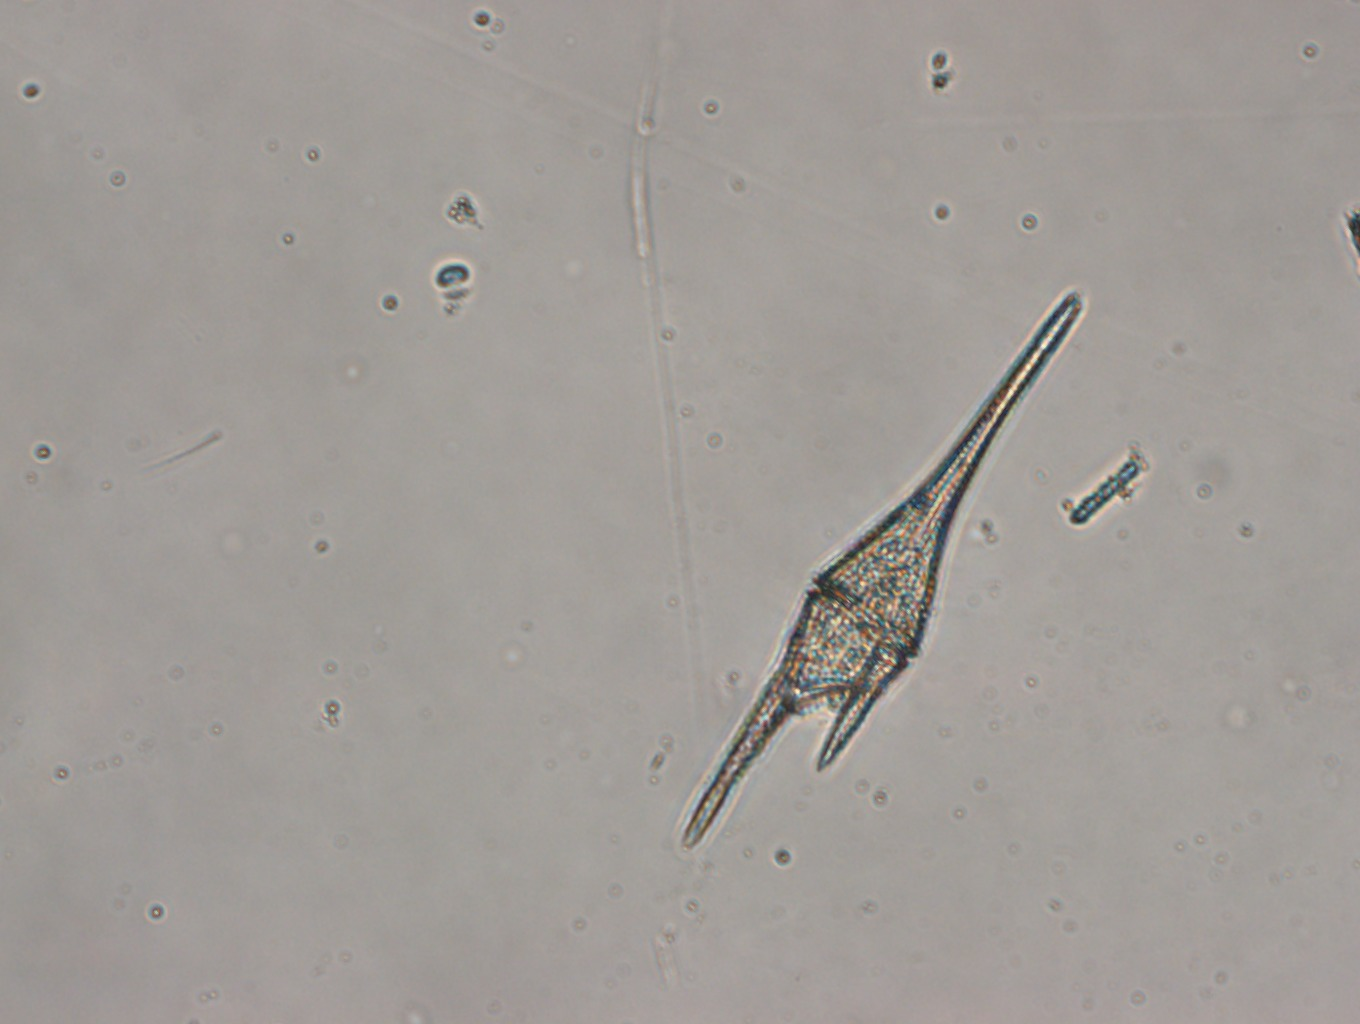ceratium furca: (677, 284, 1088, 851)
